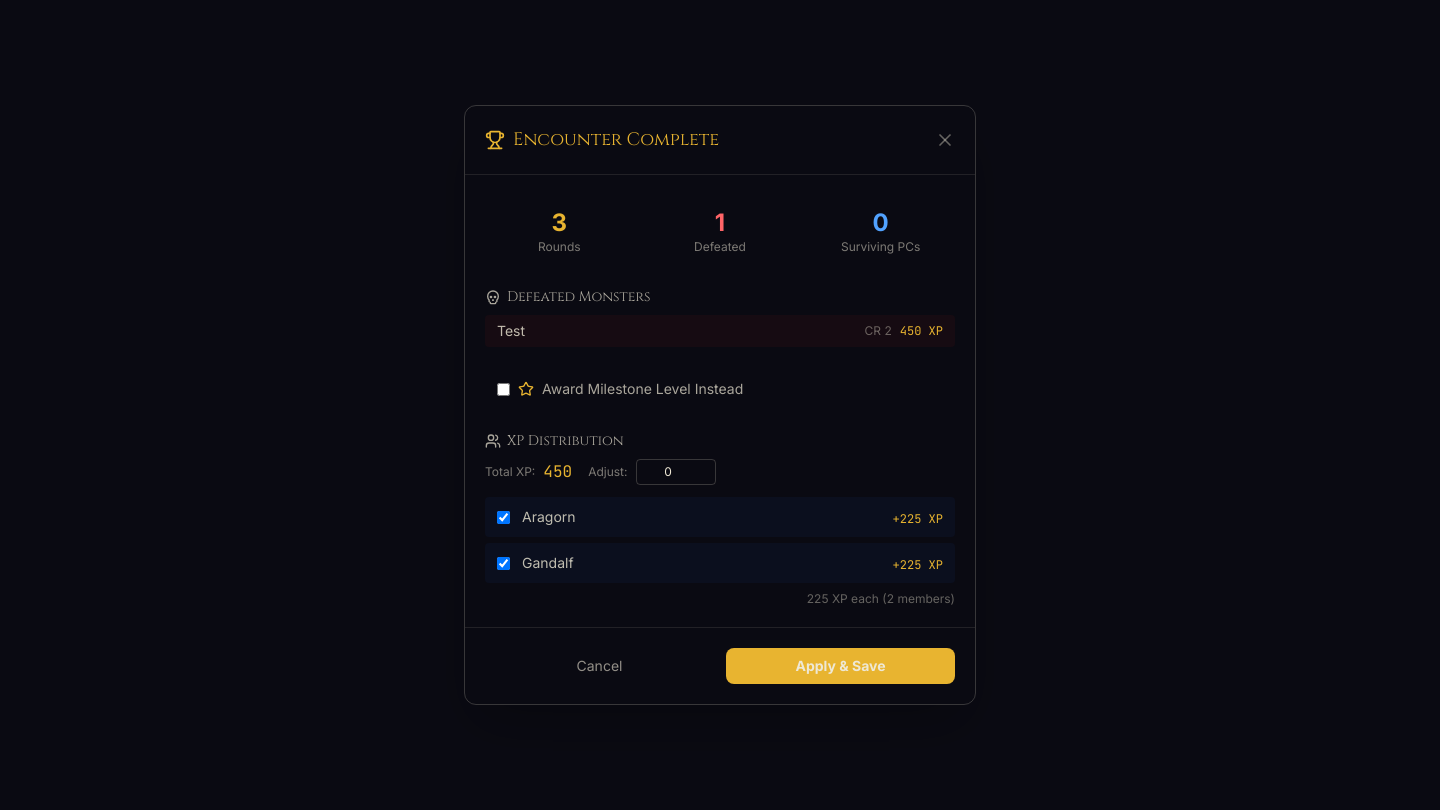
EndEncounterModal › should allow excluding characters from XP split
The width and height of the screenshot is (1440, 810).
Click the checkbox named "Include Aragorn in XP split" at (504, 517), box [497,510,510,524]
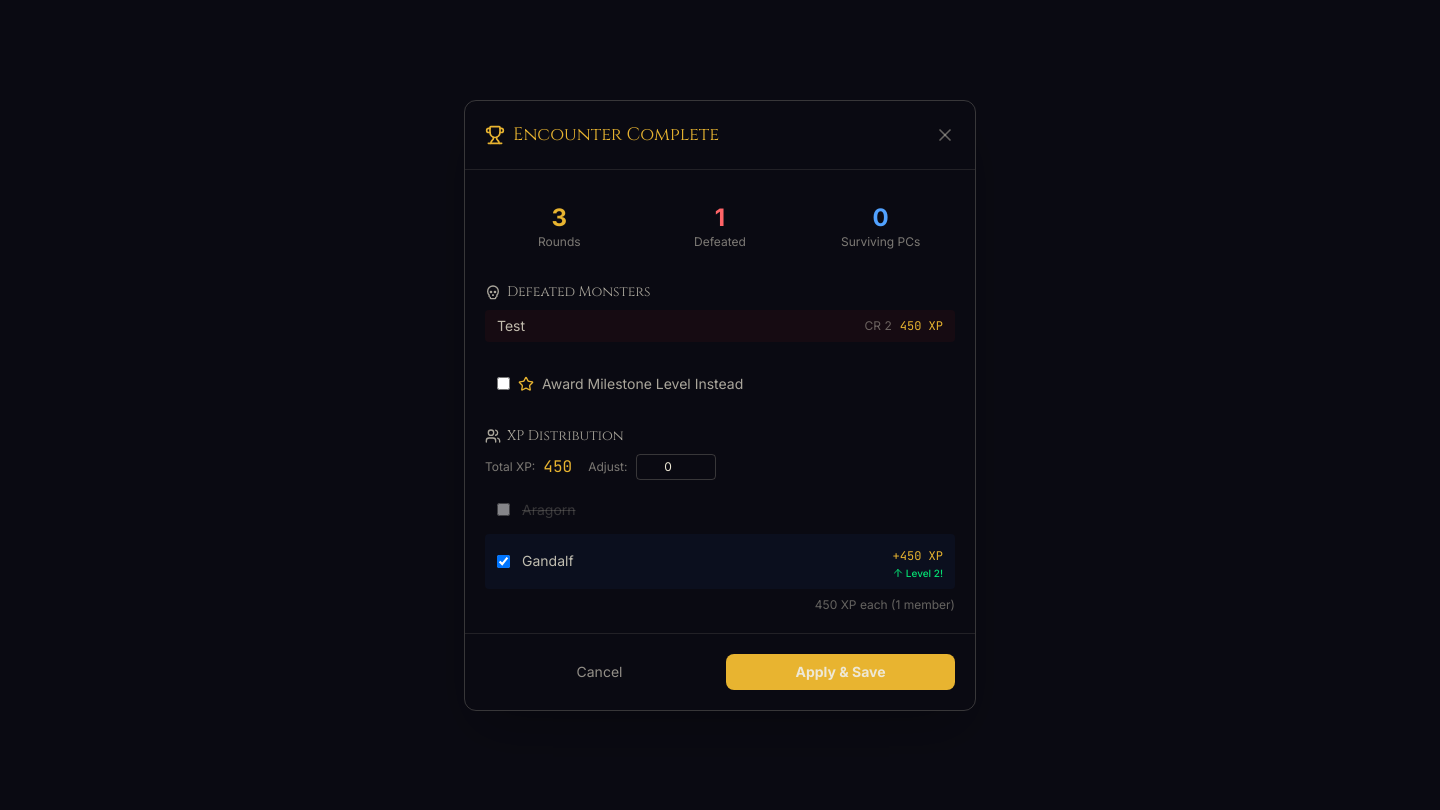
Check: the text "+450 XP" is shown, box [893,548,943,564]
